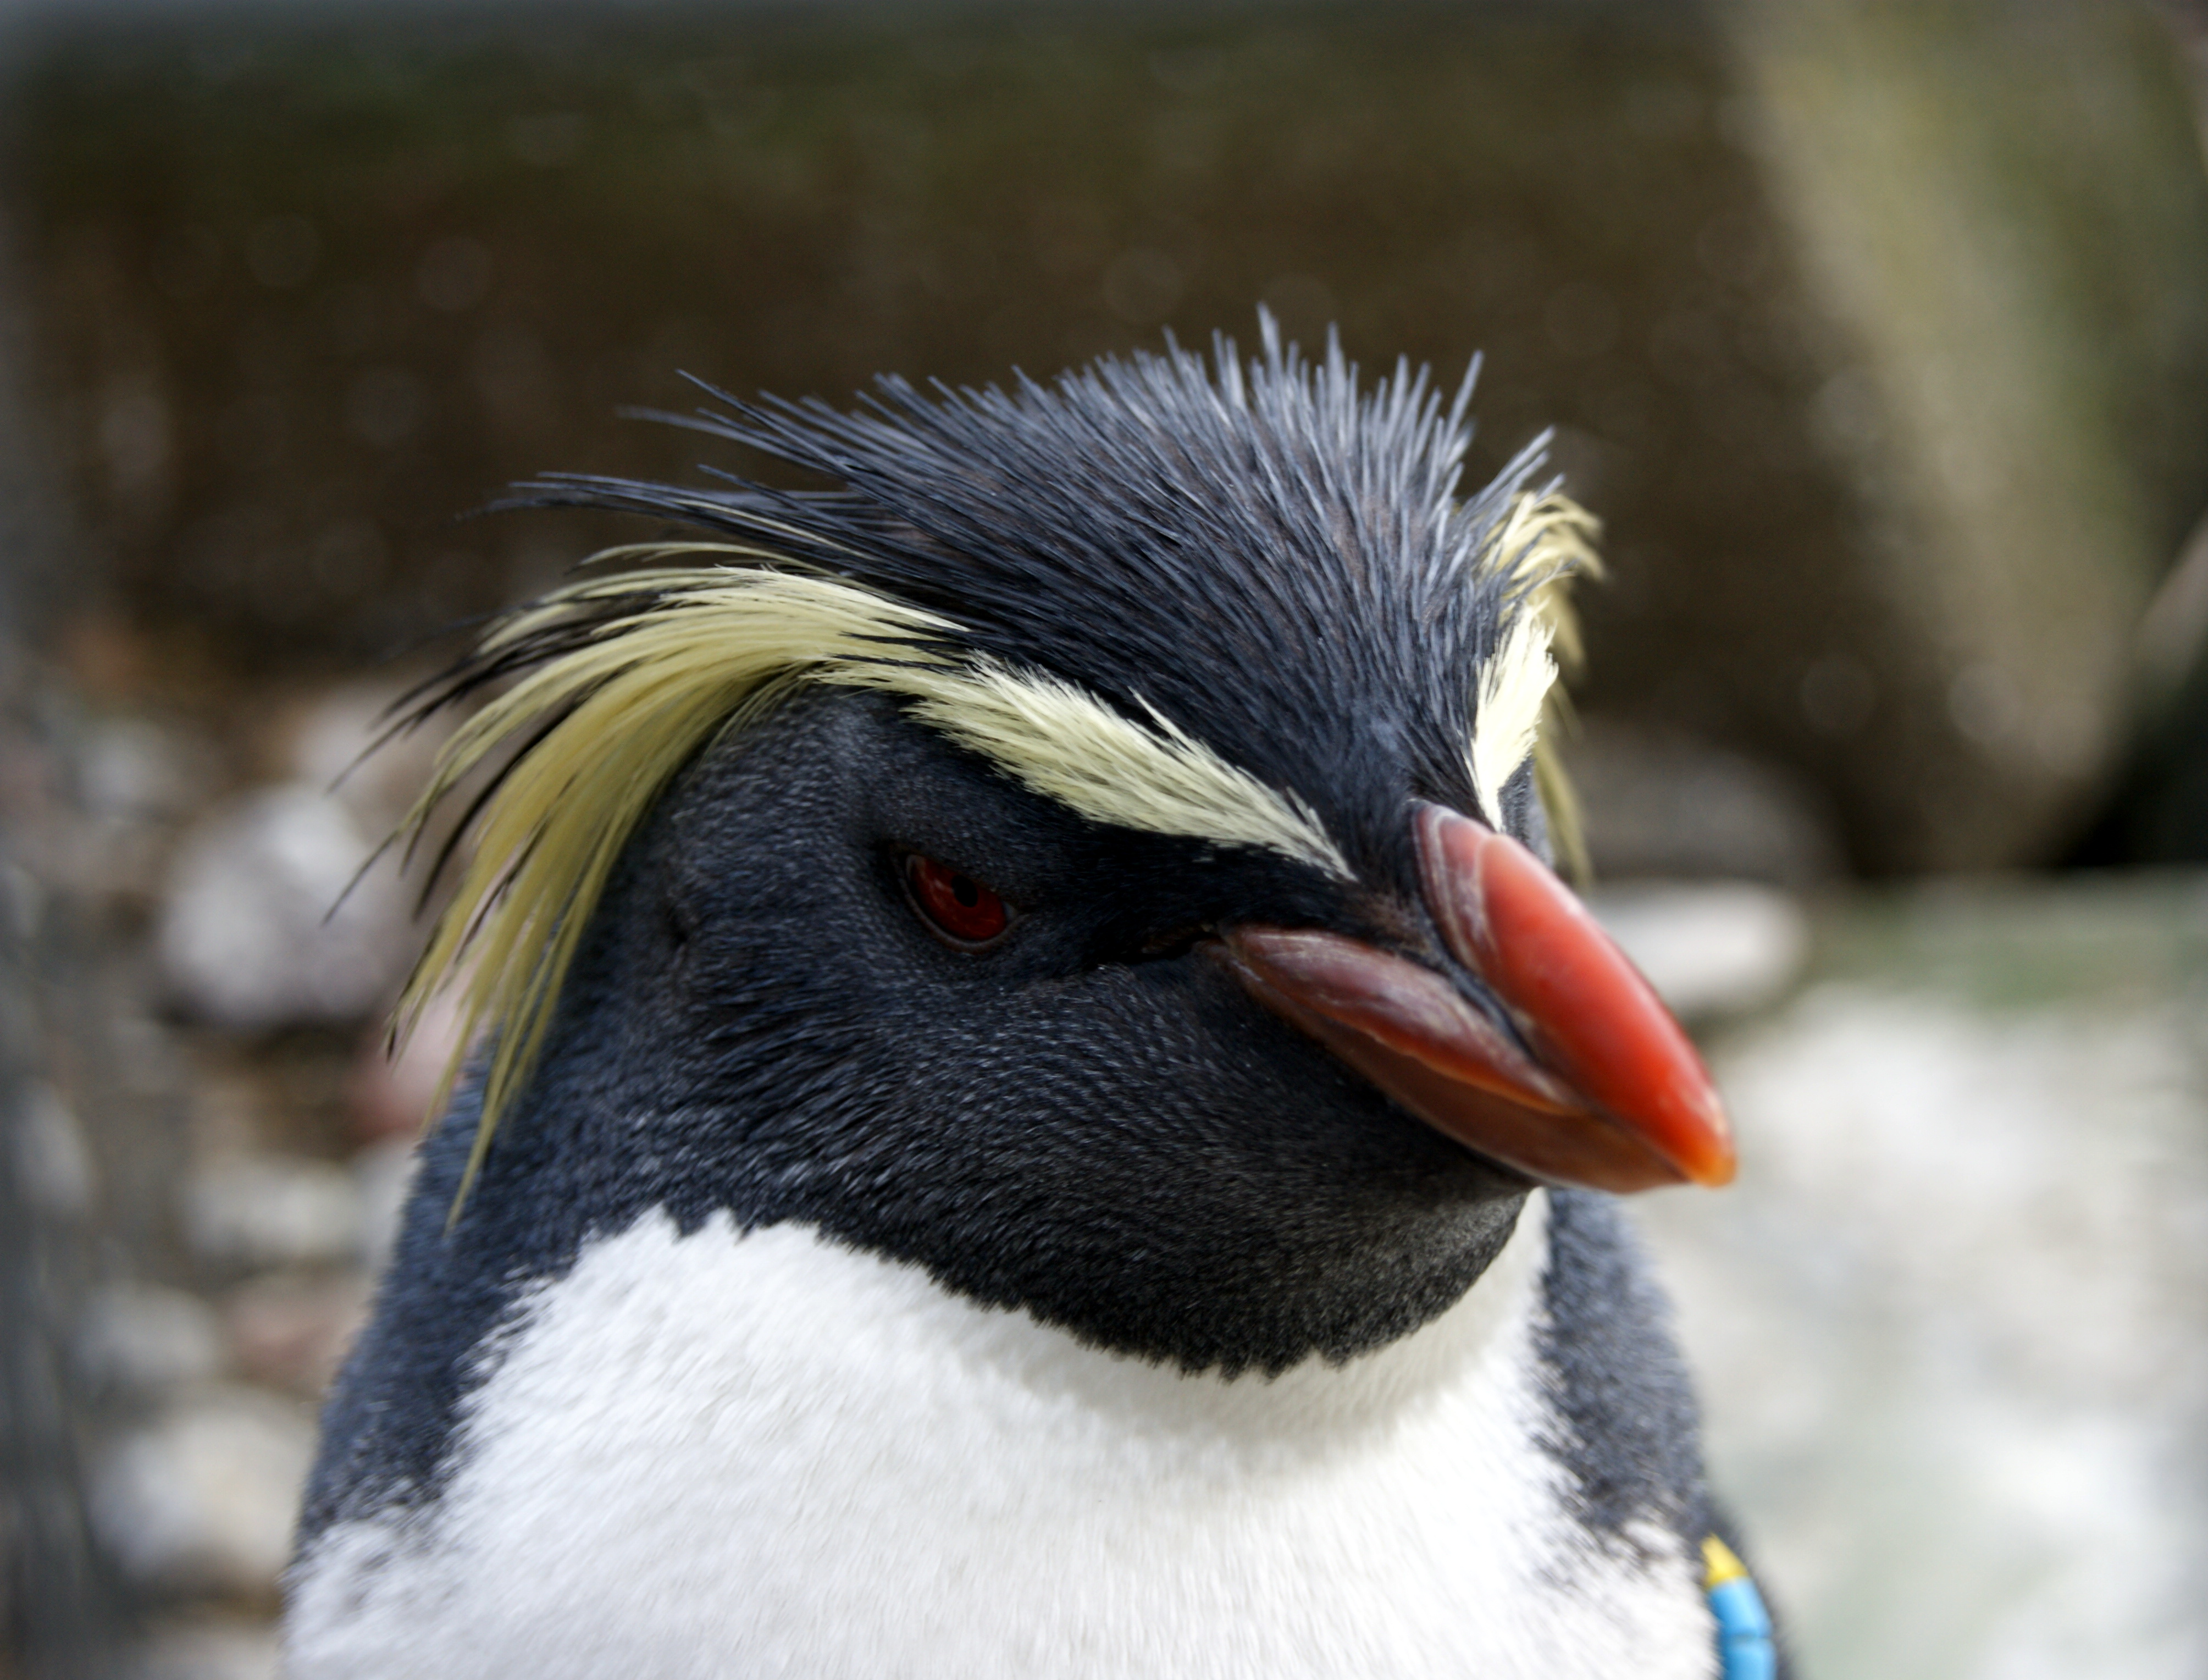penguin: (243, 332, 1795, 1680)
